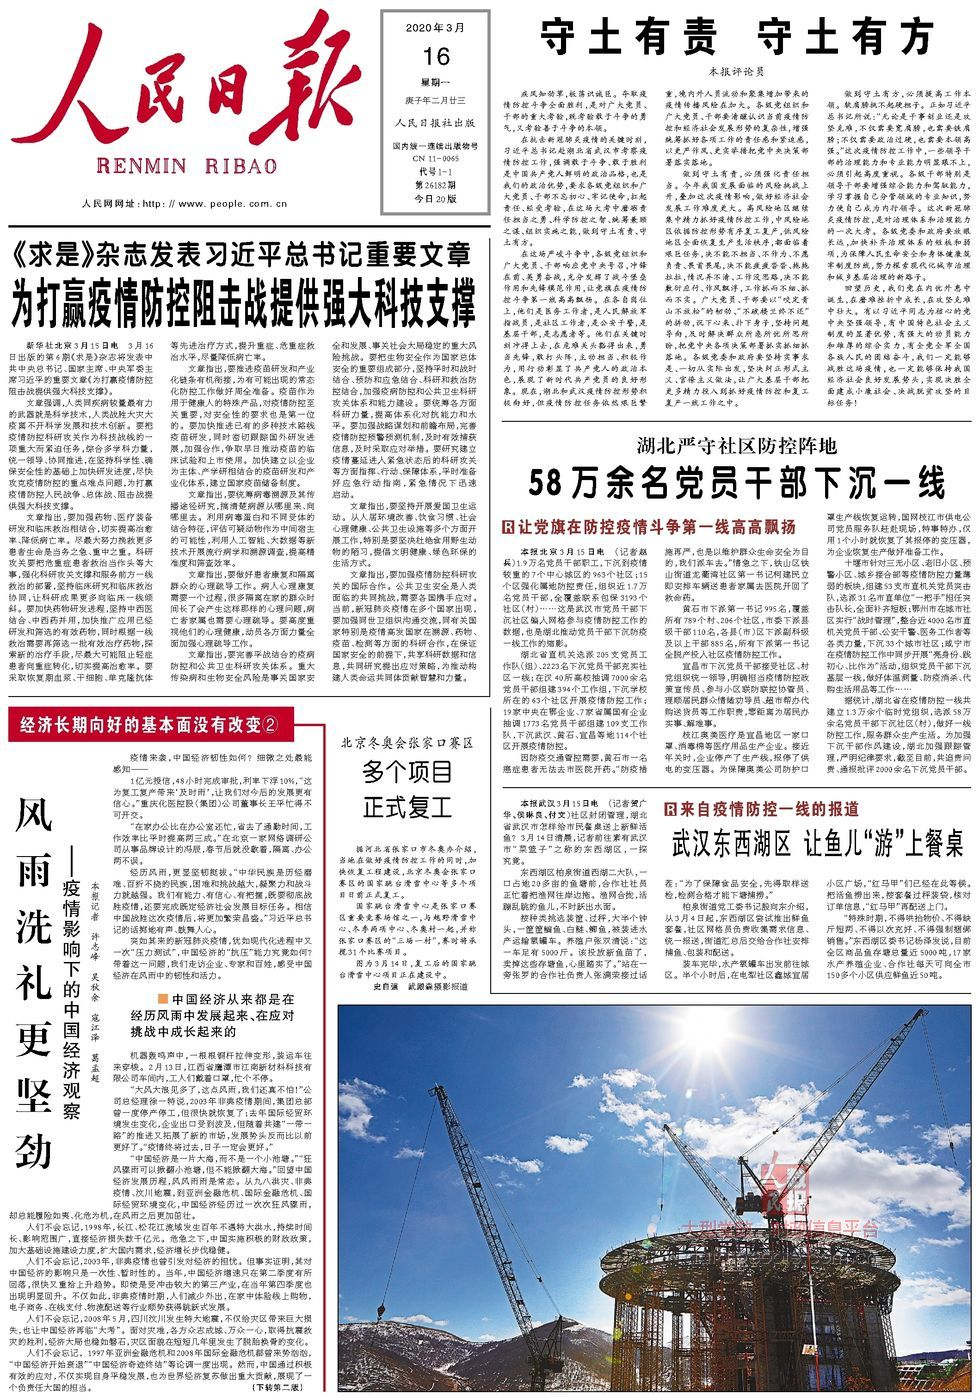pic: (333, 1000, 978, 1397)
